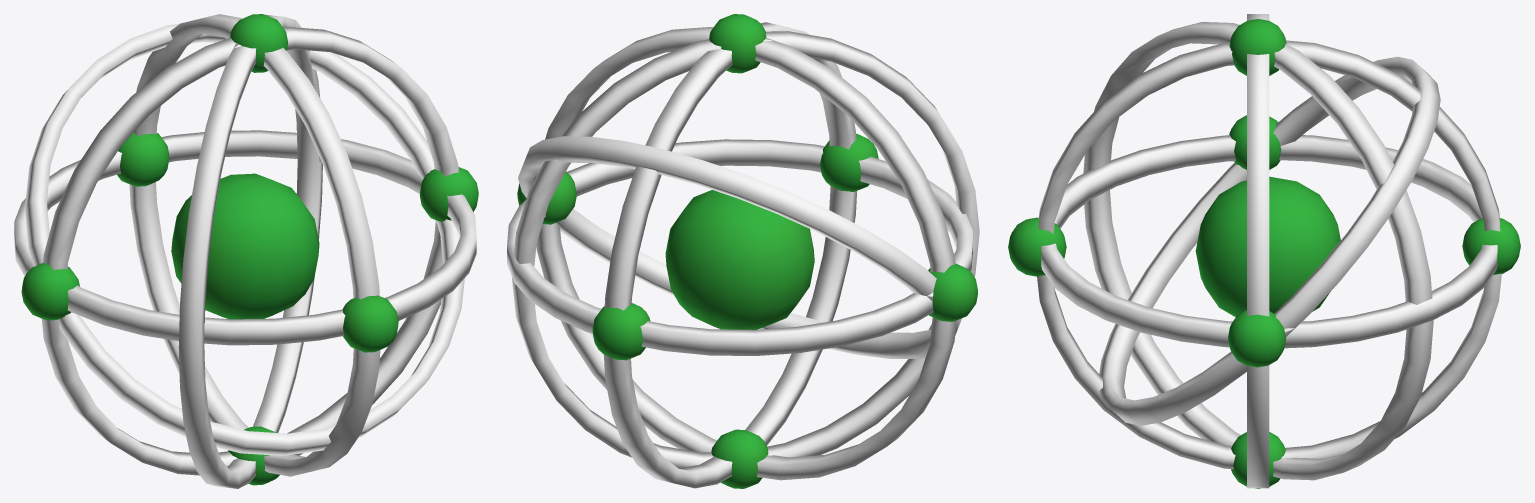
Rendered from atomic_ball.glb.
3 renders of one model, left to right at view 1: azimuth 30°, elevation 25°; view 2: azimuth 150°, elevation 25°; view 3: azimuth 270°, elevation 25°, orthographic.
Parts seen in each view (by area): view 1: Atomic Ball; view 2: Atomic Ball; view 3: Atomic Ball.
Part boxes in pixels (bbox=[...]): Atomic Ball: bbox=[14, 14, 478, 488]; Atomic Ball: bbox=[507, 14, 979, 488]; Atomic Ball: bbox=[1008, 14, 1520, 488].
Bounding box in the file's own units: 1.06 × 1.04 × 1.04.
Materials: 1 (1 with a texture image).
